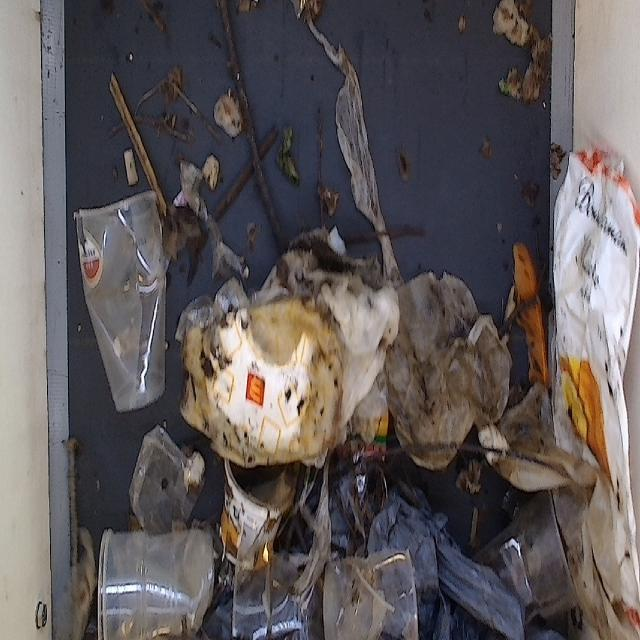food_packaging: (184, 250, 353, 470), (224, 418, 298, 575)
food_wrapping: (542, 115, 639, 640), (275, 222, 399, 459)
plastic_cups: (70, 185, 169, 418), (86, 505, 216, 640), (467, 490, 574, 640), (318, 542, 438, 640), (232, 540, 322, 640)
plastic_films: (296, 0, 406, 270), (384, 258, 514, 481), (369, 465, 528, 640), (134, 397, 198, 564)
